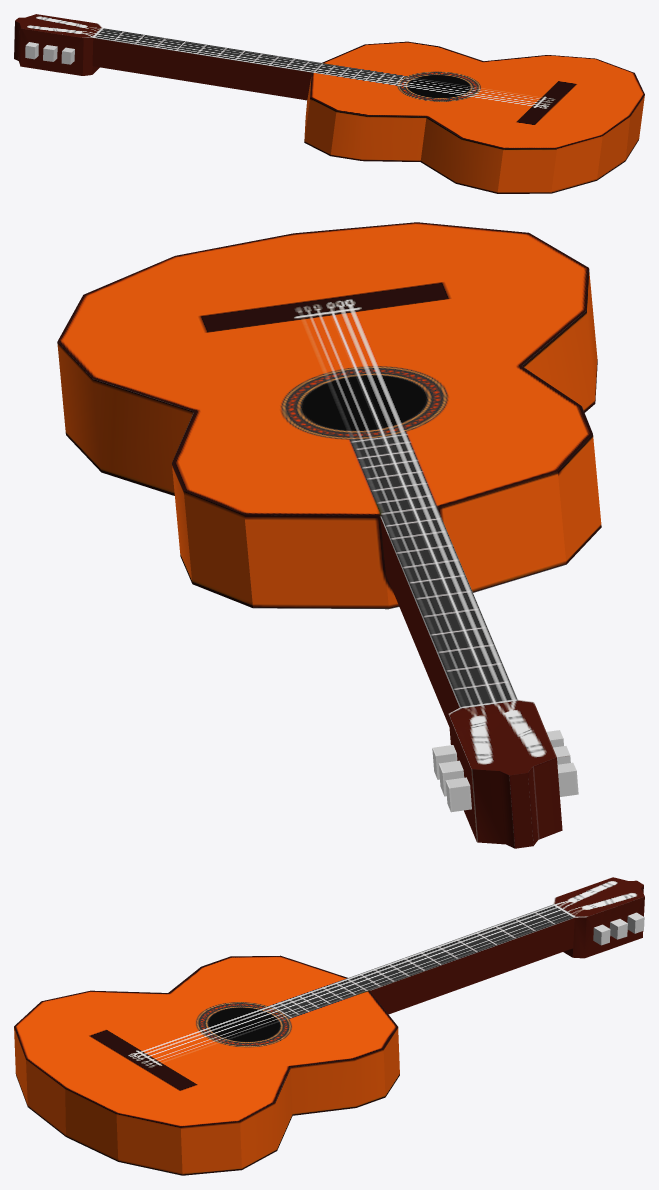
Rendered from guitarra2_000203.obj.
3 views of the same model, one above another, from view 1: azimuth 30°, elevation 25°; view 2: azimuth 150°, elevation 25°; view 3: azimuth 270°, elevation 25° (orthographic). The views are drawn at different scales.
Visible parts, largest first — view 1: g2_pPlane4.001; view 2: g2_pPlane4.001; view 3: g2_pPlane4.001.
Part boxes in pixels (<box>): g2_pPlane4.001: <box>14,14,644,193</box>; g2_pPlane4.001: <box>57,222,601,848</box>; g2_pPlane4.001: <box>14,877,644,1175</box>.
Bounding box in the file's own units: 9.36 × 1.3 × 10.39.
